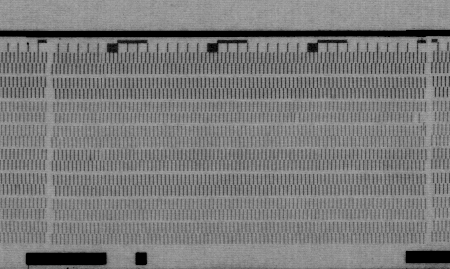Broken hole: (411, 111, 433, 124)
Oblique printing: (421, 119, 429, 132), (291, 112, 300, 122)
